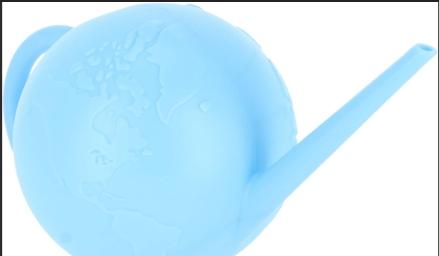ARROSOIR: (2, 2, 439, 255)
